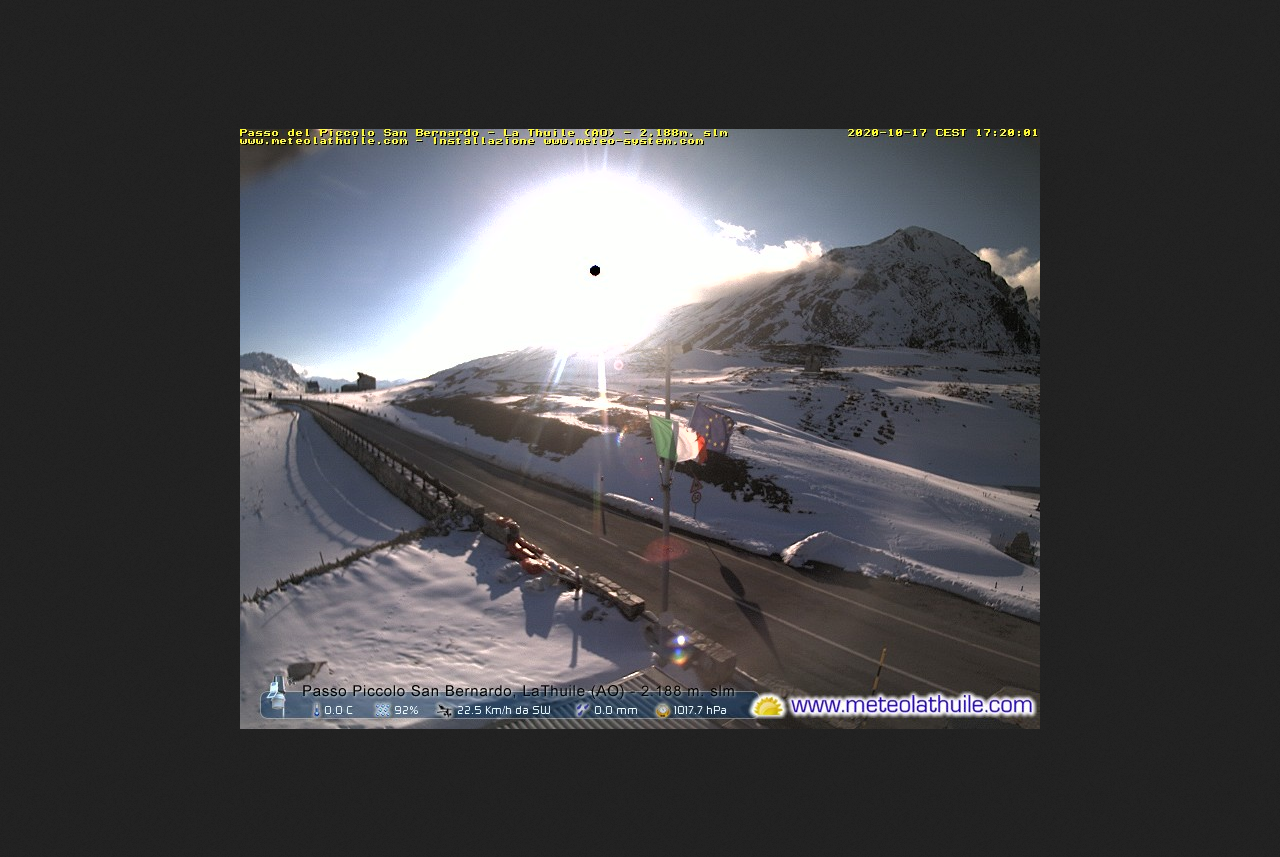yes: (648, 412, 708, 470), (690, 401, 738, 454)
